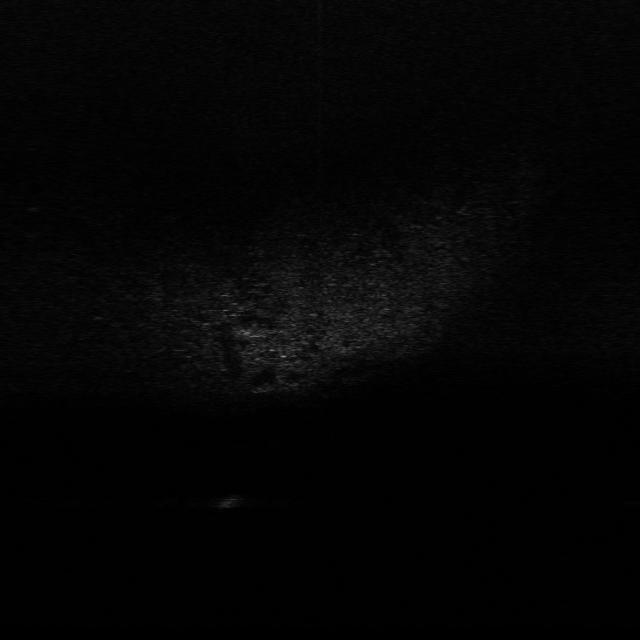cylinder: (214, 490, 243, 510)
